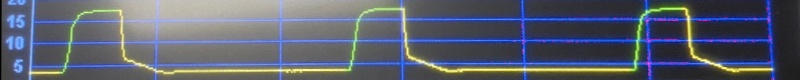normal_pressure: (29, 1, 787, 79)
